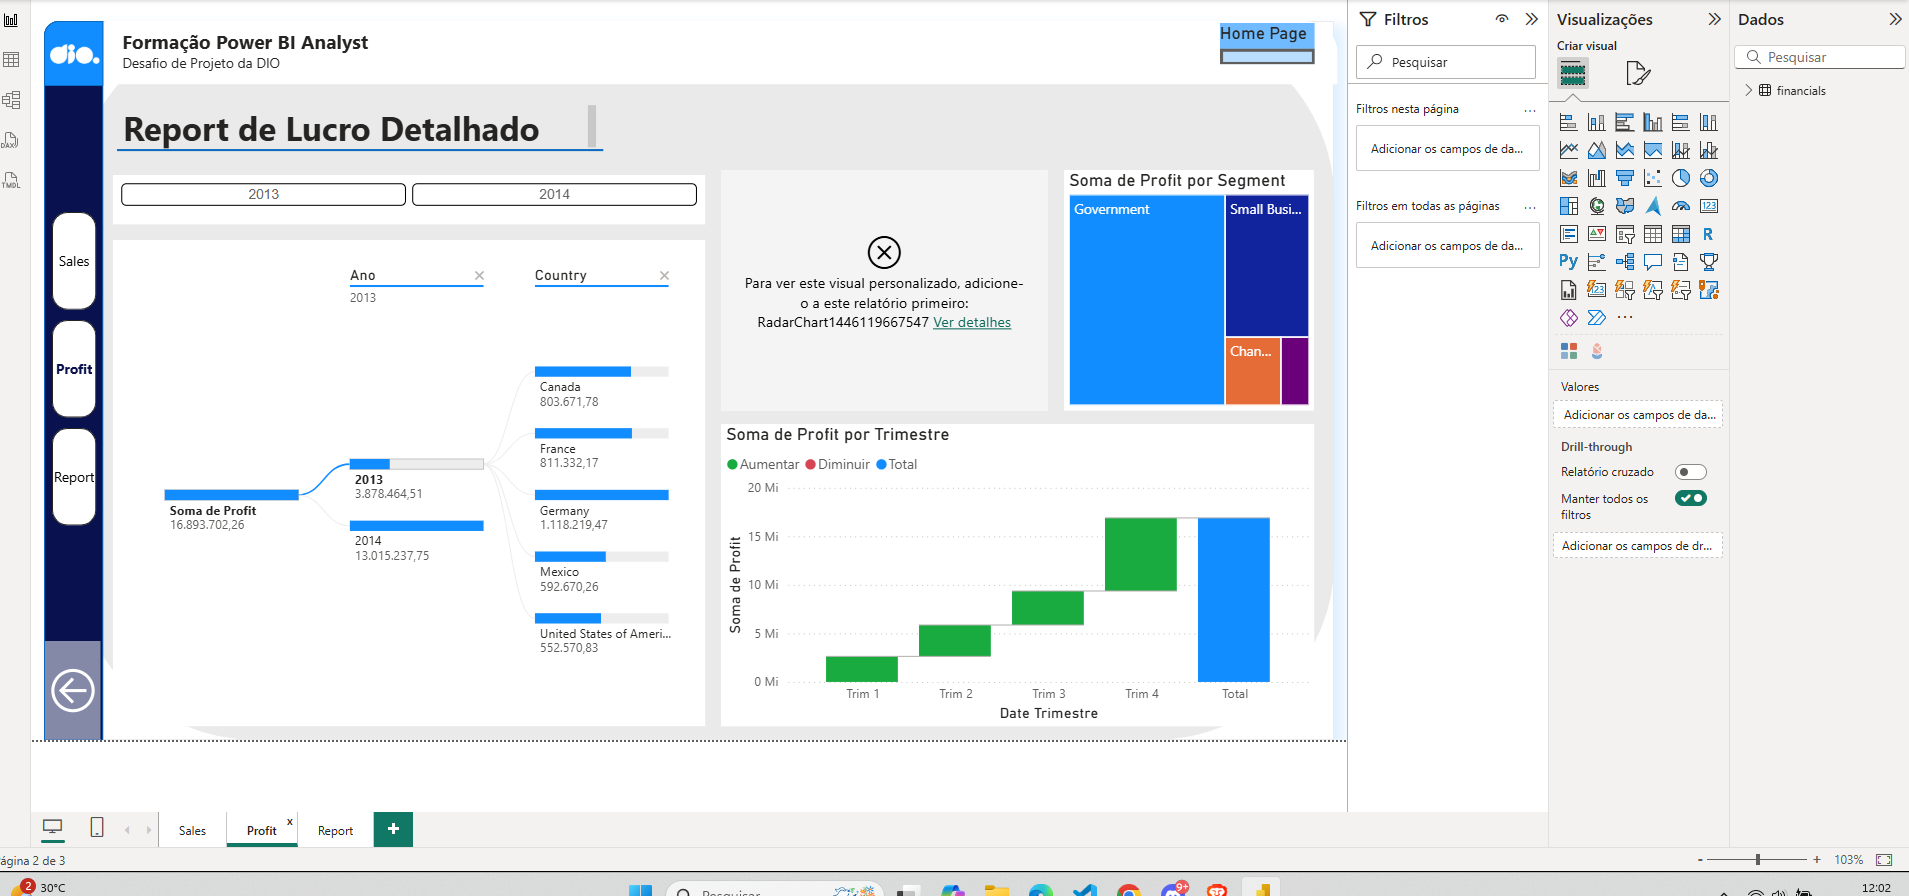

The page's visual inventory and layout, read from the dashboard file:
{"tool":"powerbi","page":{"name":"Profit","canvas":[1280,720],"ordinal":1},"visuals":[{"type":"shape","box":[42.6,20.7,1225.3,699.3],"z":0},{"type":"shape","box":[83.9,127.8,473,37.1],"z":0,"group":"g1"},{"type":"textbox","box":[85.3,97.6,470.2,52.2],"z":1000,"group":"g1"},{"type":"shape","box":[12.4,20.2,57.7,699.8],"z":1000},{"type":"shape","box":[12.4,20.6,57.7,63.2],"z":2000},{"type":"image","box":[13.7,33,57.7,39.9],"z":3000},{"type":"shape","title":"Fundo do Título","box":[71.5,20.6,1198.9,61.9],"z":4000},{"type":"textbox","title":"Título do report","box":[83.9,22,378.1,63.2],"z":5000},{"type":"shape","box":[79.7,233.7,576.1,473],"z":6000},{"type":"decompositionTreeVisual","fields":{"Analyze":["Sum(financials.Profit)"],"ExplainBy":["financials.Date.Variation.Hierarquia de datas.Ano","financials.Country"]},"box":[99.8,242.2,536.3,456.5],"z":7000},{"type":"waterfallChart","fields":{"Category":["financials.Date.Variation.Hierarquia de datas.Trimestre"],"Y":["Sum(financials.Profit)"]},"box":[670.9,412.5,577.4,294.2],"z":8000},{"type":"ChicletSlicer1448559807354","fields":{"Category":["financials.Date.Variation.Hierarquia de datas.Ano"]},"box":[79.7,170.5,576.1,48.1],"z":9000},{"type":"RadarChart1446119667547","fields":{"Category":["financials.Product"],"Y":["Sum(financials.Profit)"]},"box":[670.9,165,317.6,233.7],"z":10000},{"type":"treemap","fields":{"Values":["Sum(financials.Profit)"],"Group":["financials.Segment"]},"box":[1005,165,243.4,233.7],"z":11000},{"type":"group","id":"g1","title":"Sales report","box":[83.9,97.6,473,67.4],"z":12000},{"type":"actionButton","box":[13.6,623.5,54.5,96.3],"z":13000},{"type":"actionButton","title":"Home Page","box":[1156.5,22.4,92.4,39.9],"z":14000},{"type":"pageNavigator","box":[20.4,206.2,43.8,306.4],"z":14001}]}

Visuals, with their boxes on the page's 1280x720 design canvas (x1, y1, x2, y2). These are canvas units, not pixel positions in the 1909x896 screenshot, which may show the page scaled, cropped or inside an application window:
shape: BBox(43, 21, 1268, 720)
shape: BBox(84, 128, 557, 165)
textbox: BBox(85, 98, 556, 150)
shape: BBox(12, 20, 70, 720)
shape: BBox(12, 21, 70, 84)
image: BBox(14, 33, 71, 73)
"Fundo do Título" shape: BBox(72, 21, 1270, 82)
"Título do report" textbox: BBox(84, 22, 462, 85)
shape: BBox(80, 234, 656, 707)
decompositionTreeVisual - Sum(financials.Profit) x financials.Date.Variation.Hierarquia de datas.Ano: BBox(100, 242, 636, 699)
waterfallChart - financials.Date.Variation.Hierarquia de datas.Trimestre x Sum(financials.Profit): BBox(671, 412, 1248, 707)
ChicletSlicer1448559807354 - financials.Date.Variation.Hierarquia de datas.Ano: BBox(80, 170, 656, 219)
RadarChart1446119667547 - financials.Product x Sum(financials.Profit): BBox(671, 165, 988, 399)
treemap - Sum(financials.Profit) x financials.Segment: BBox(1005, 165, 1248, 399)
"Sales report" group: BBox(84, 98, 557, 165)
actionButton: BBox(14, 624, 68, 720)
"Home Page" actionButton: BBox(1156, 22, 1249, 62)
pageNavigator: BBox(20, 206, 64, 513)
